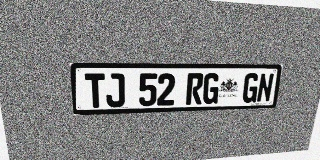2: (157, 73, 175, 106)
5: (139, 73, 157, 106)
G: (241, 73, 260, 103), (202, 73, 220, 104)
J: (105, 73, 125, 107)
N: (256, 73, 274, 102)
R: (186, 73, 204, 105)
T: (85, 73, 106, 108)
